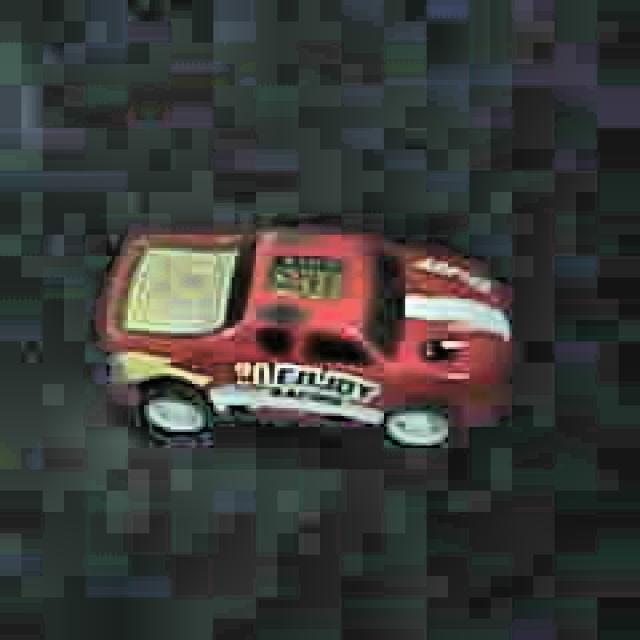car: (96, 222, 522, 451)
